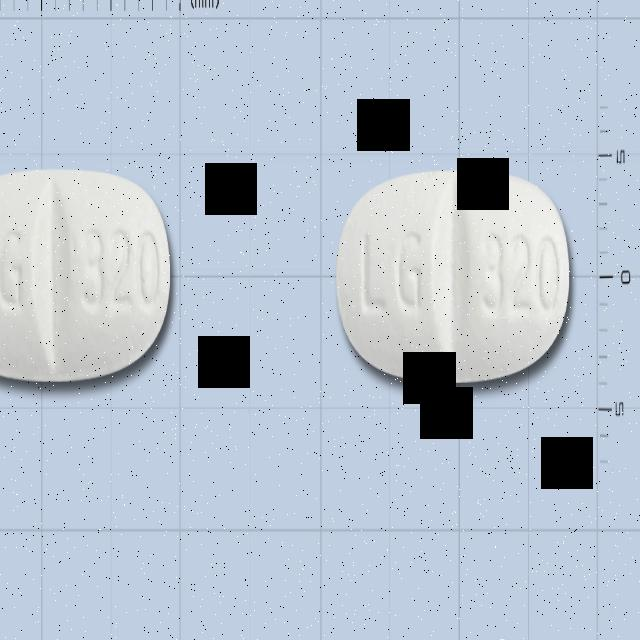Factive: (336, 167, 570, 385), (0, 165, 170, 381)
